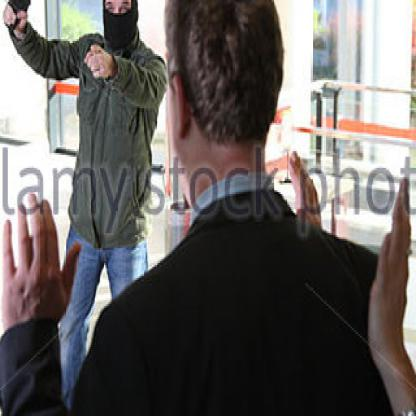gun: (0, 0, 39, 43)
